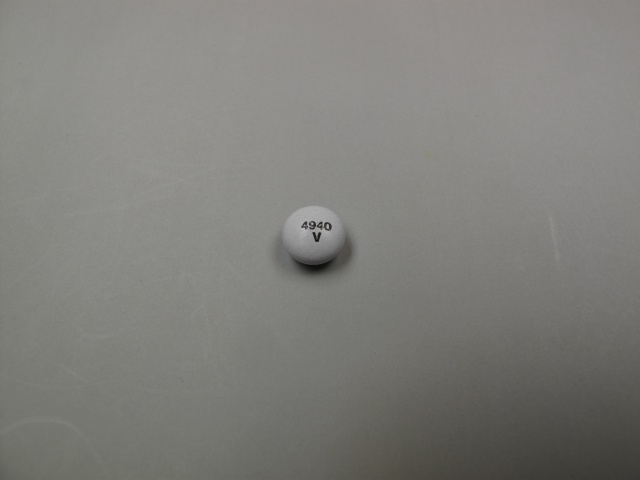0: (324, 221, 332, 232)
4: (299, 221, 309, 230), (317, 220, 324, 230)
9: (309, 221, 318, 231)
V: (311, 230, 323, 245)
